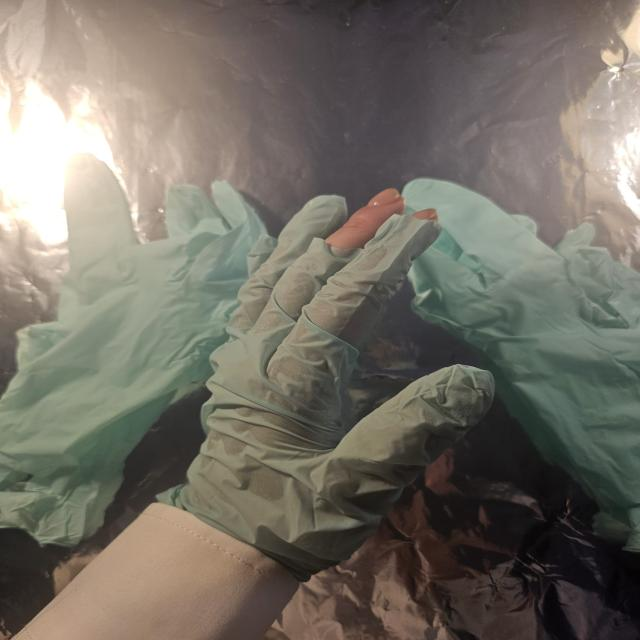gloves_damaged: (179, 184, 498, 585)
